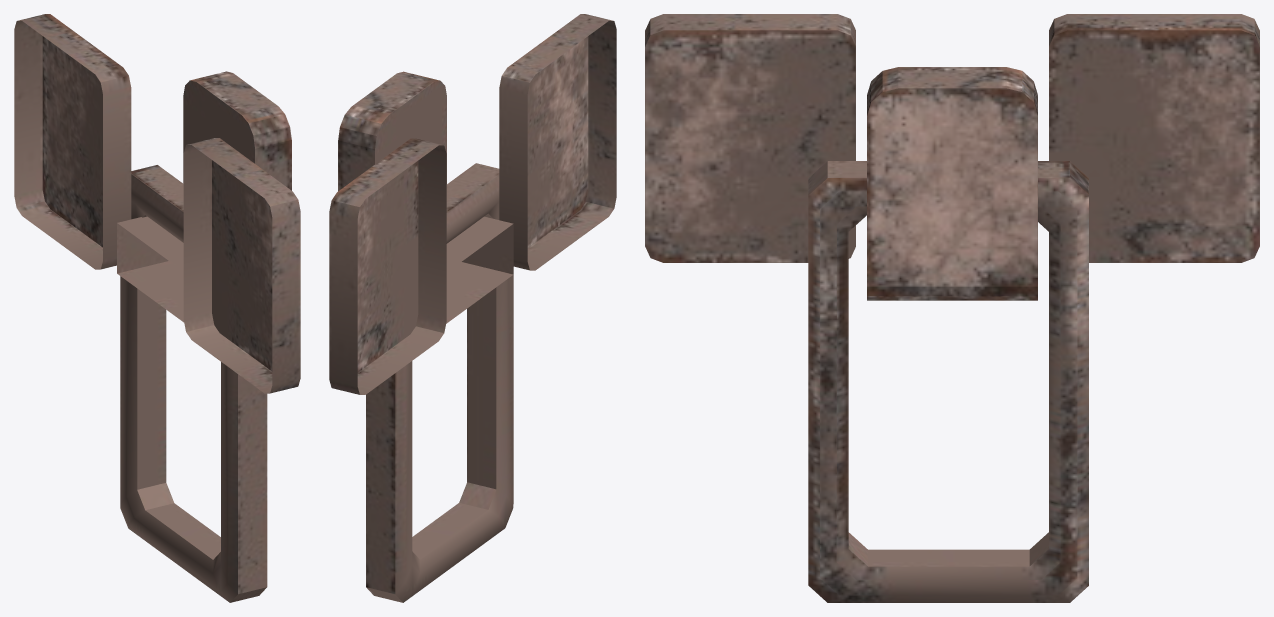
File: Lock.gltf
3 renders of one model, left to right at view 1: azimuth 30°, elevation 25°; view 2: azimuth 150°, elevation 25°; view 3: azimuth 270°, elevation 25°, orthographic. The views are drawn at different scales.
Parts seen in each view (by area): view 1: TreasureChest.001; view 2: TreasureChest.001; view 3: TreasureChest.001.
Boxes of the visible parts, x1=… form: TreasureChest.001: x1=14, y1=14, x2=300, y2=602; TreasureChest.001: x1=329, y1=14, x2=616, y2=602; TreasureChest.001: x1=645, y1=14, x2=1259, y2=602.
Size of the model in its own units: 0.0316 by 0.1244 by 0.1255.
Materials: 1 (1 with a texture image).
